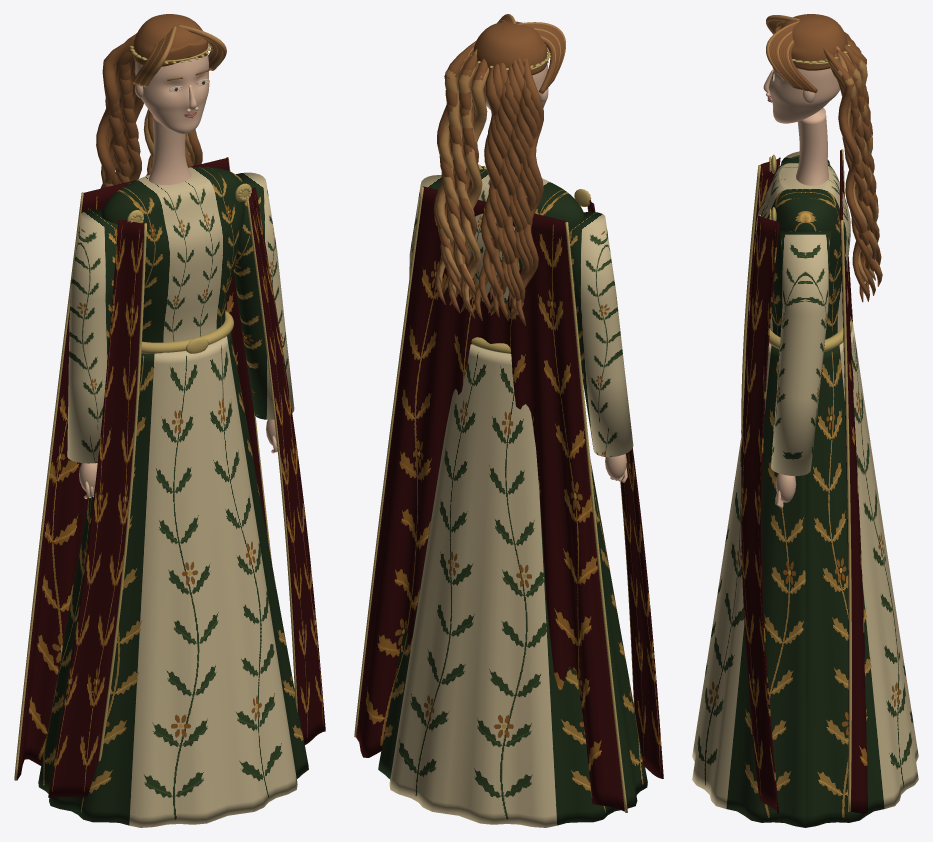
The model's file is princess-v7-standing.glb.
The picture shows the model from 3 angles, left to right: view 1: azimuth 30°, elevation 25°; view 2: azimuth 150°, elevation 25°; view 3: azimuth 270°, elevation 25°; orthographic projection.
Parts seen in each view (by area): view 1: MorrisPrincess_surface, cape_surface, body_surface, head_surface, armL_surface, armR_surface; view 2: MorrisPrincess_surface, cape_surface, head_surface, armL_surface, body_surface; view 3: MorrisPrincess_surface, cape_surface, head_surface, armR_surface, body_surface.
Boxes of the visible parts, x1,y1,x2,y2 form: MorrisPrincess_surface: (38,332,308,827); cape_surface: (14,157,325,797); body_surface: (101,115,251,353); head_surface: (96,14,226,188); armL_surface: (67,209,117,498); armR_surface: (233,172,294,453); MorrisPrincess_surface: (378,344,647,827); cape_surface: (354,166,663,812); head_surface: (433,14,565,325); armL_surface: (568,212,633,482); body_surface: (468,164,591,353); MorrisPrincess_surface: (692,321,918,827); cape_surface: (741,149,867,813); head_surface: (763,14,882,302); armR_surface: (771,228,830,508); body_surface: (755,108,852,351).
Size of the model in its own units: 0.6502 by 1.72 by 0.4649.
10 materials, 2 textured.
